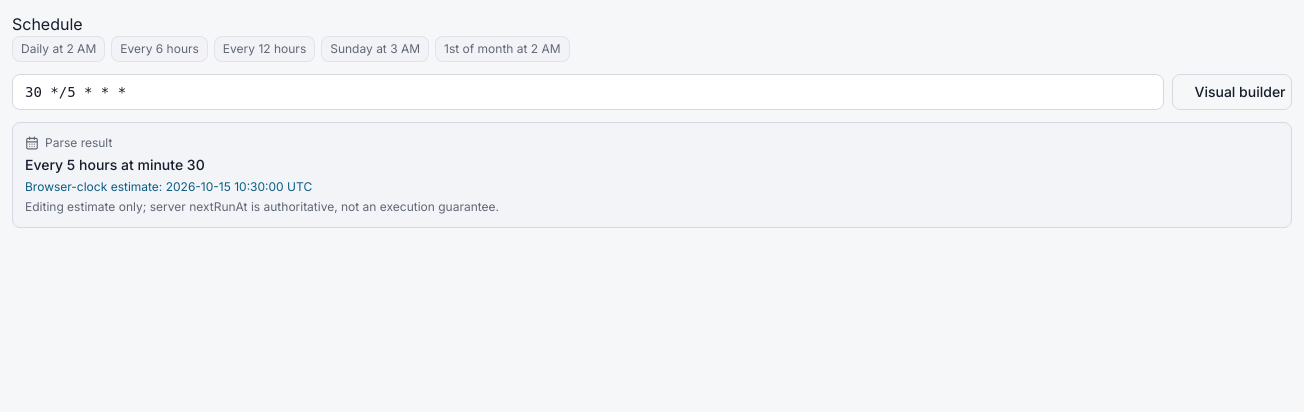
Test: CronGenerator preview › opening builder for 30 */5 * * * does not rewrite the schedule
The image size is (1304, 412).
Click the button "Visual builder" at (1232, 92), box [1172,74,1292,110]
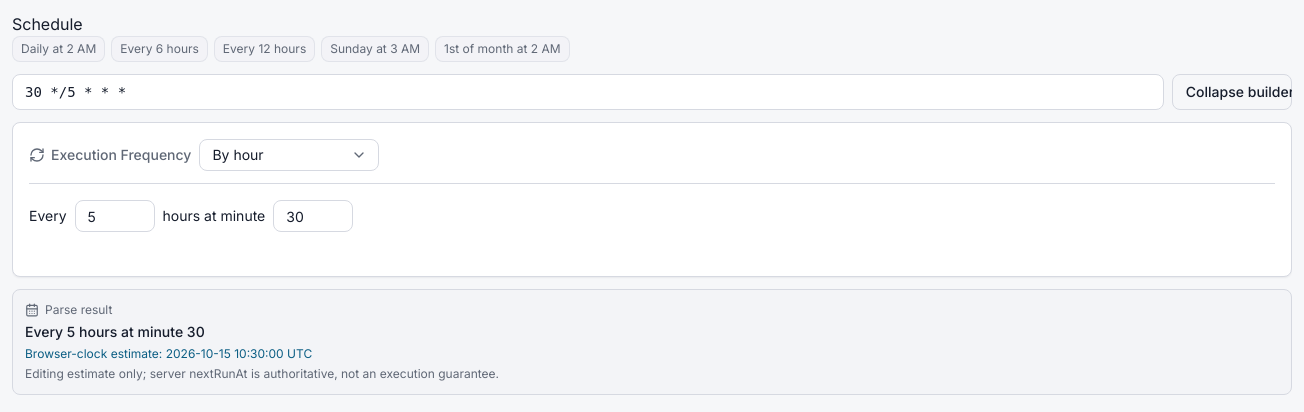
Expected: the field labelled "Schedule" holds "30 */5 * * *", [12,74,1164,110]
Expected: the dropdown named "Execution Frequency" shows "By hour", [199,139,379,171]
